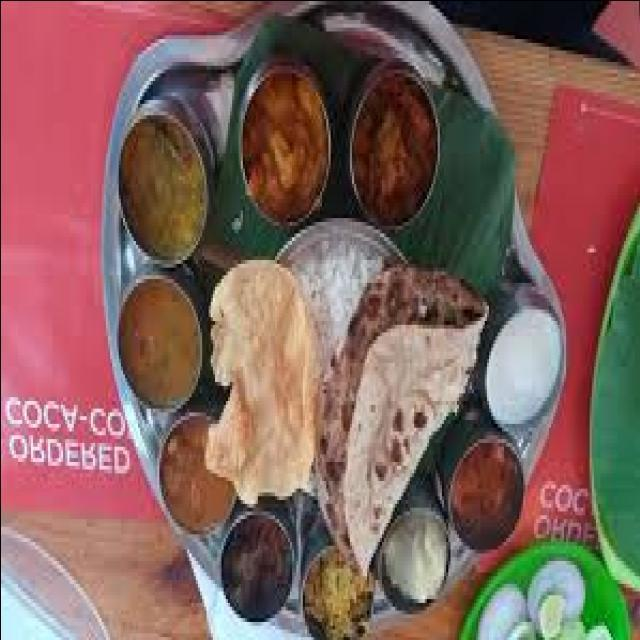curd: (476, 290, 573, 429)
dal: (112, 107, 215, 264)
papad: (209, 274, 324, 502)
roti: (328, 258, 475, 564)
sambar-rasam: (109, 267, 211, 417), (114, 109, 210, 267)
veg-fry: (339, 61, 448, 233)
